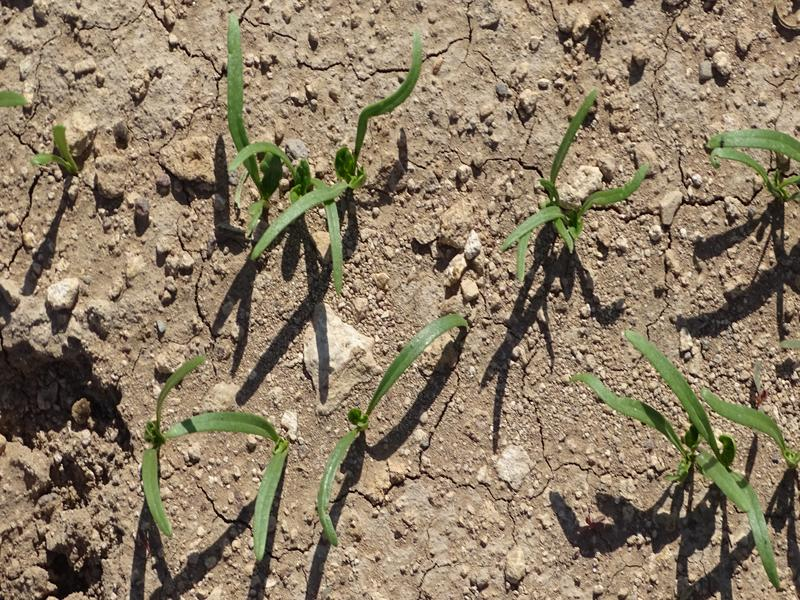Espinaca: (569, 324, 793, 592), (226, 15, 423, 291), (315, 313, 471, 549), (128, 363, 287, 559), (510, 96, 647, 282), (707, 130, 800, 194)
